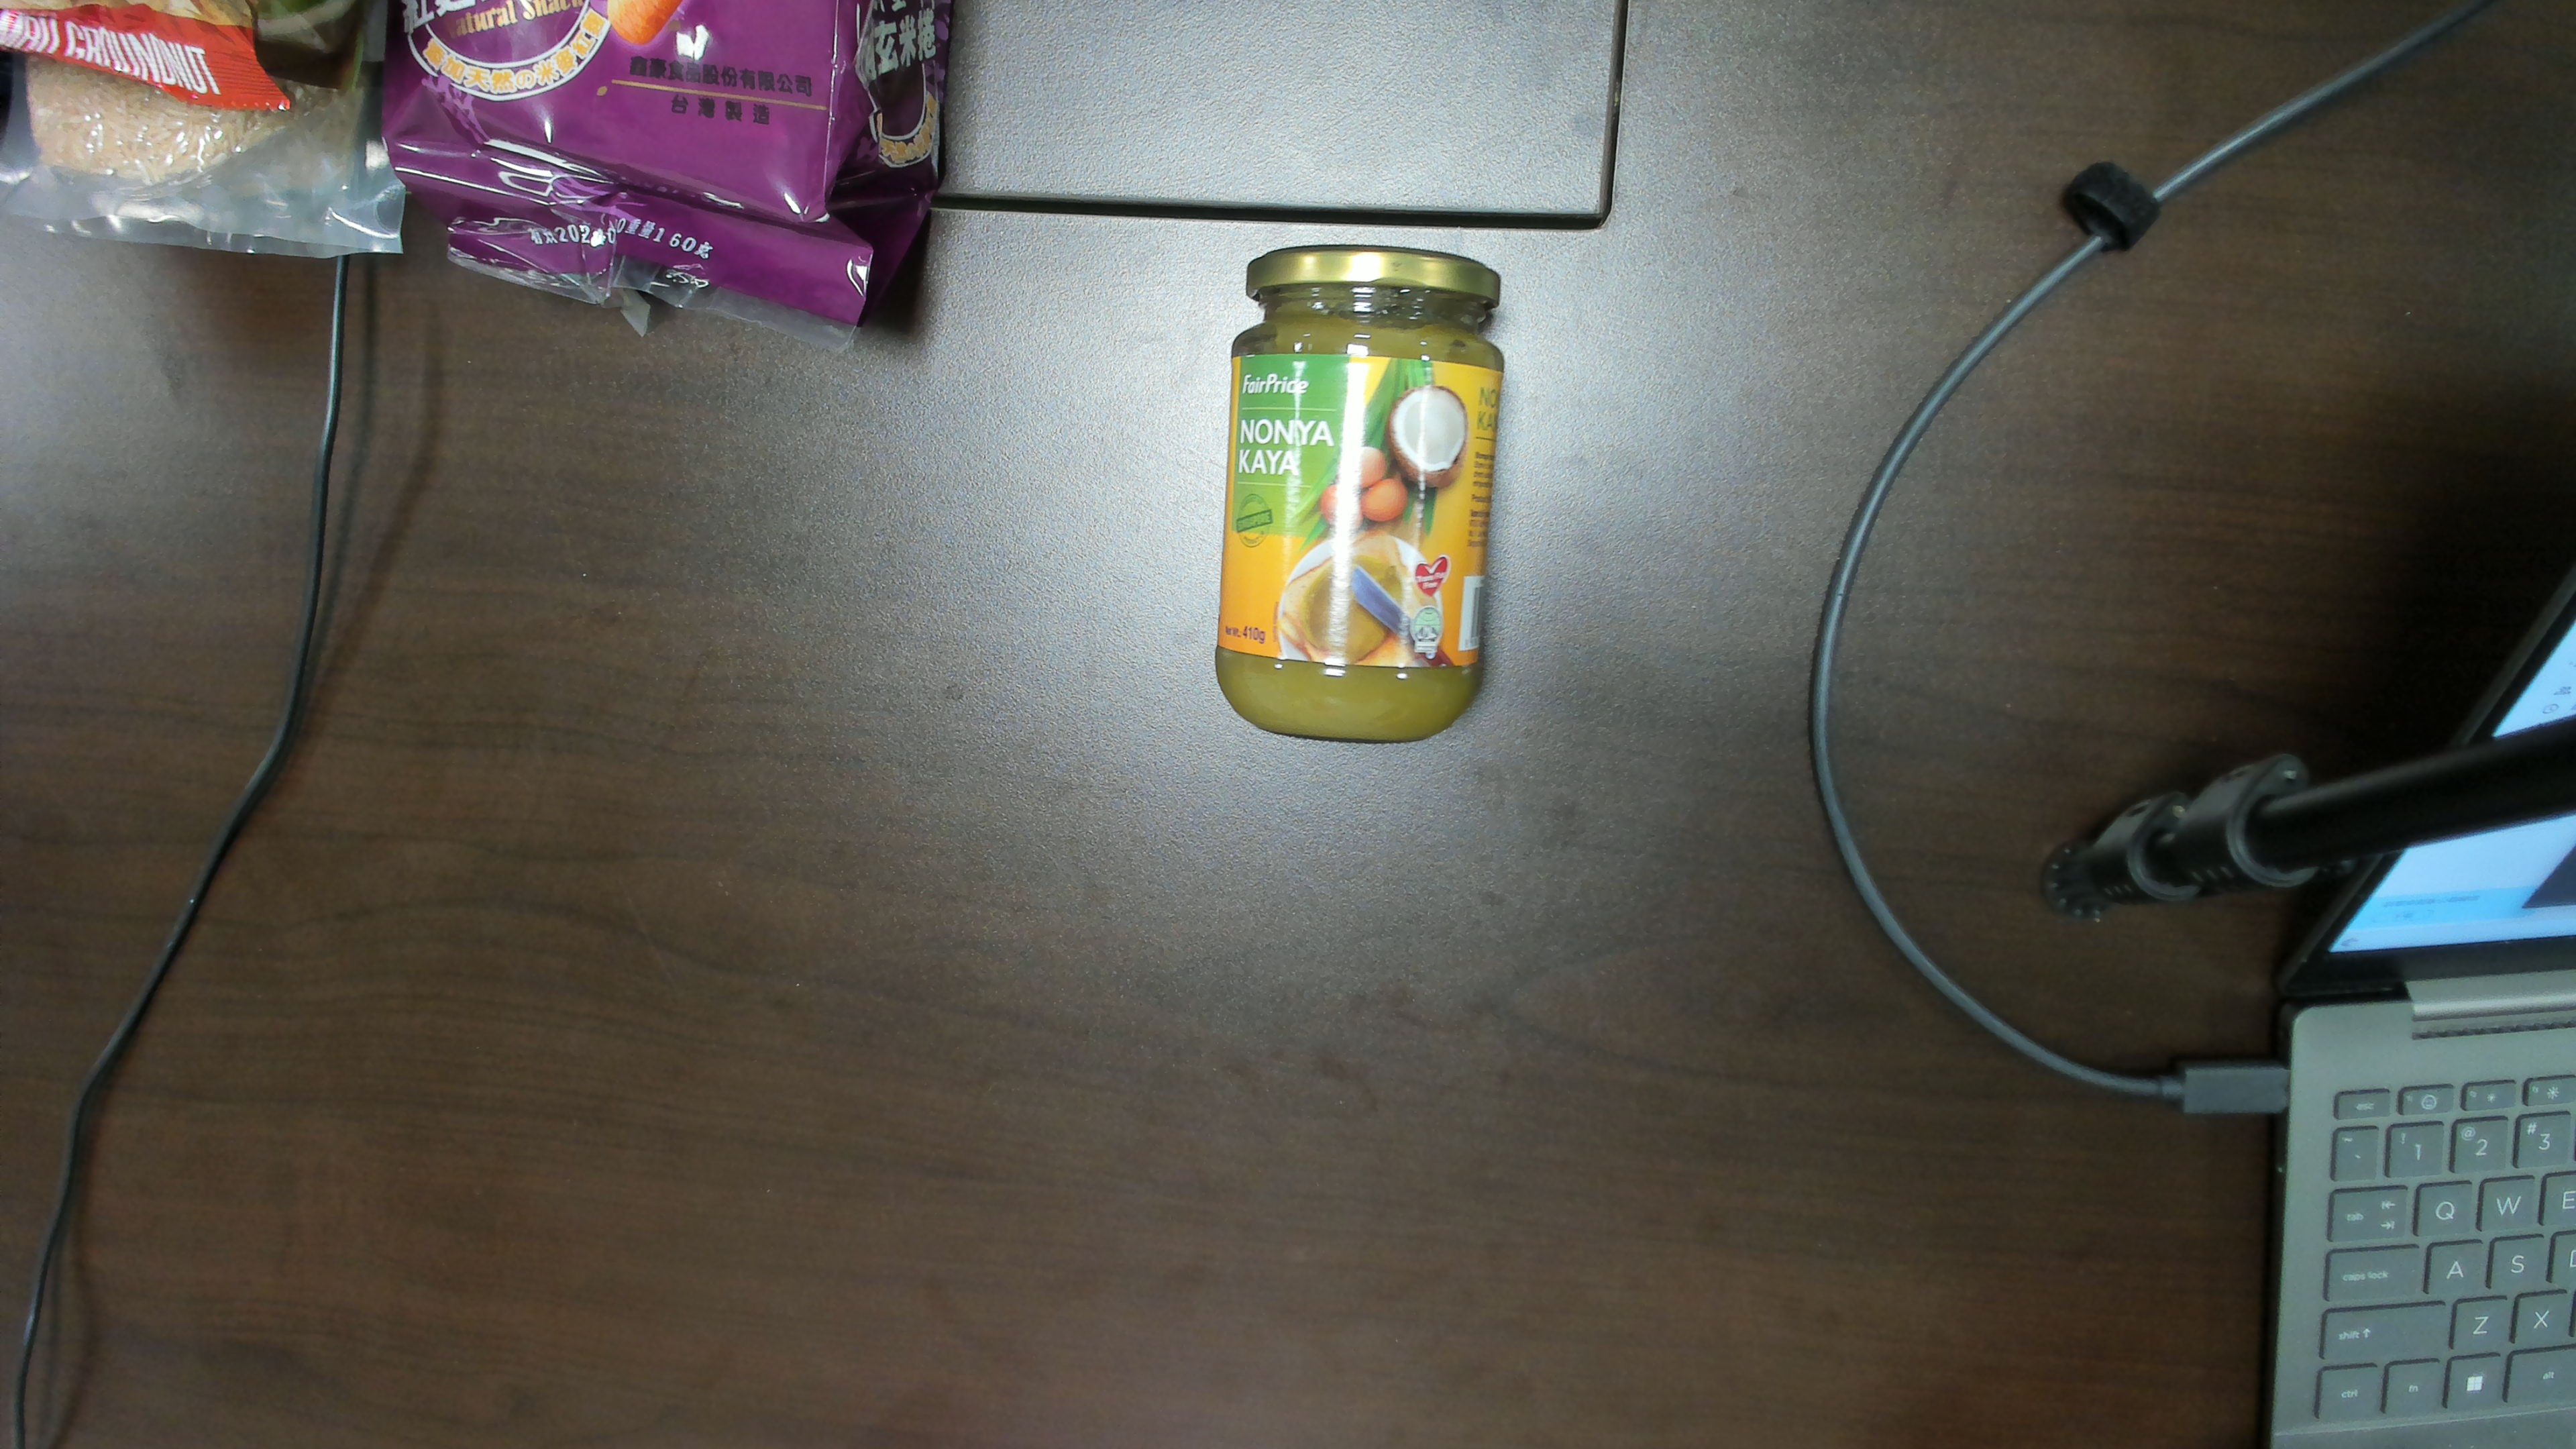Kaya_400-499g_Halal_NonHealthy: (1235, 338, 1472, 674)
